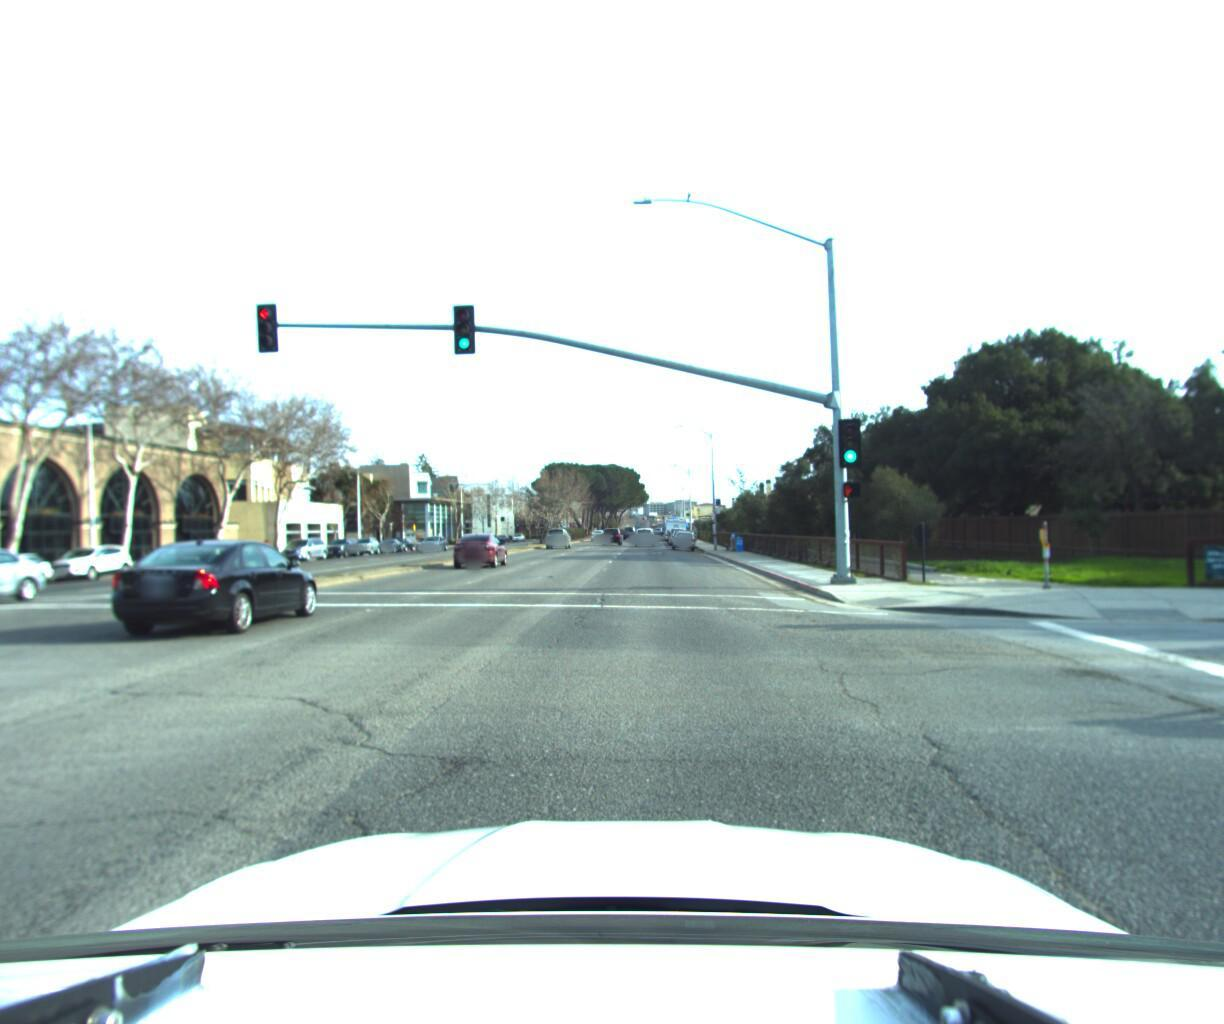car: (102, 534, 330, 646), (0, 545, 57, 625), (42, 544, 143, 587), (0, 552, 64, 599), (451, 527, 509, 566), (278, 537, 333, 564), (319, 536, 363, 560), (410, 533, 449, 553), (543, 525, 573, 548), (635, 524, 657, 545), (603, 525, 624, 544)
